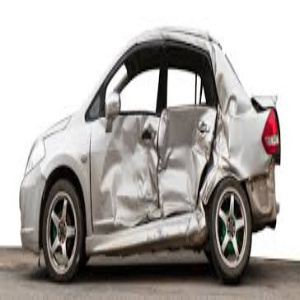door: (97, 128, 211, 224)
